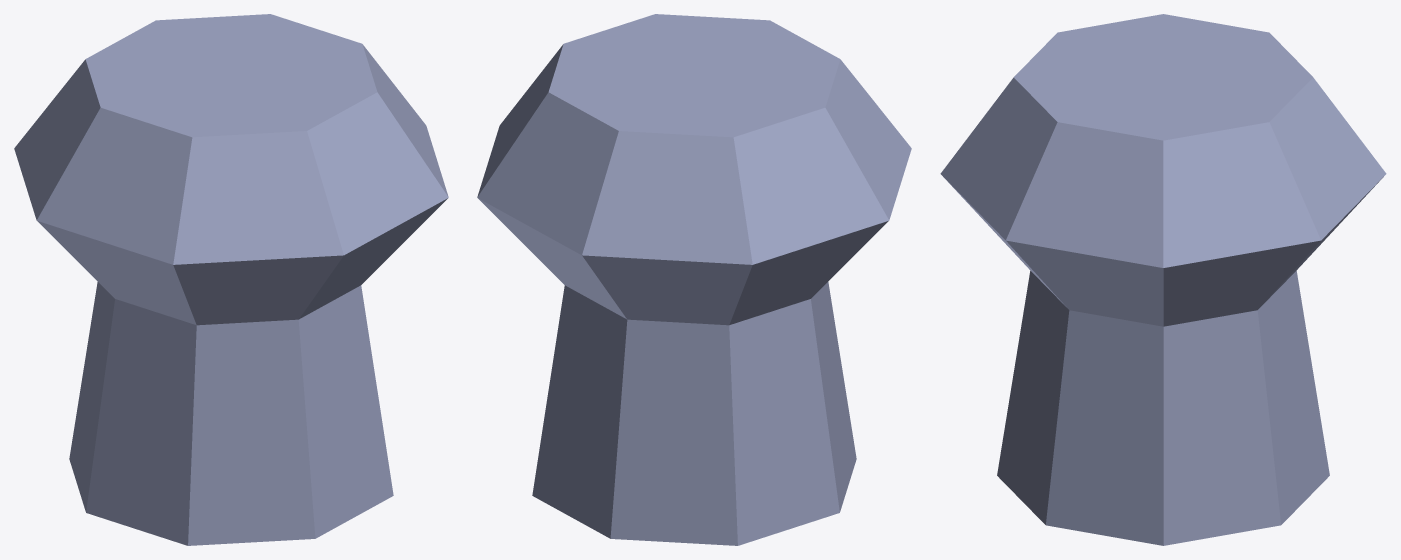
Rendered from detail-pipe.obj.
The picture shows the model from 3 angles, left to right: view 1: azimuth 30°, elevation 25°; view 2: azimuth 150°, elevation 25°; view 3: azimuth 270°, elevation 25°; orthographic projection.
Bounding box in the file's own units: 0.4342 × 0.4277 × 0.4342.
